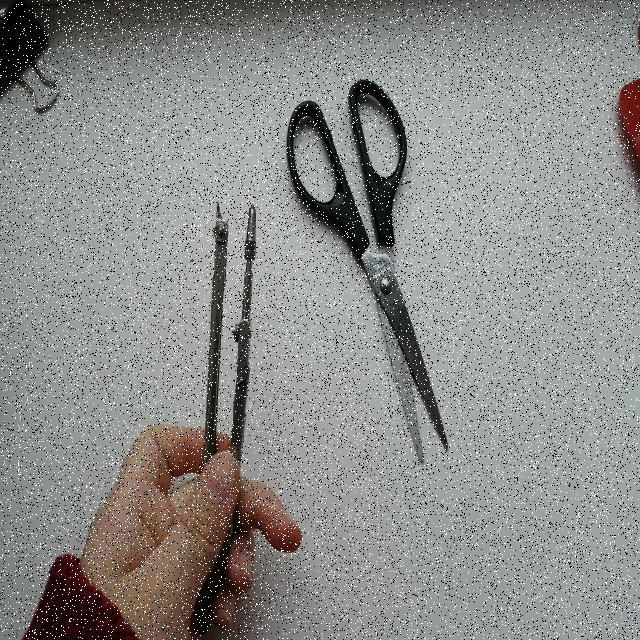scissors: (276, 72, 452, 476)
